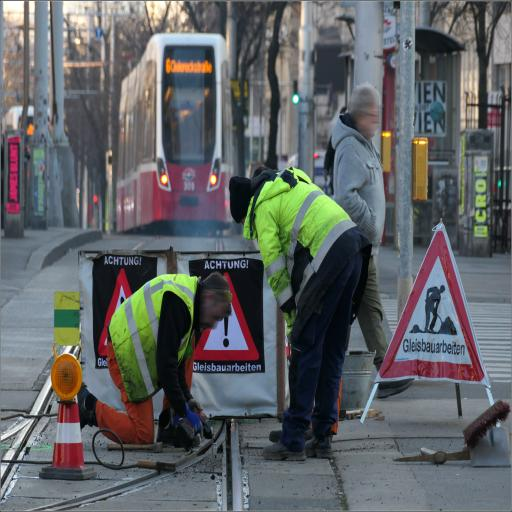Flexity: (116, 32, 236, 228)
